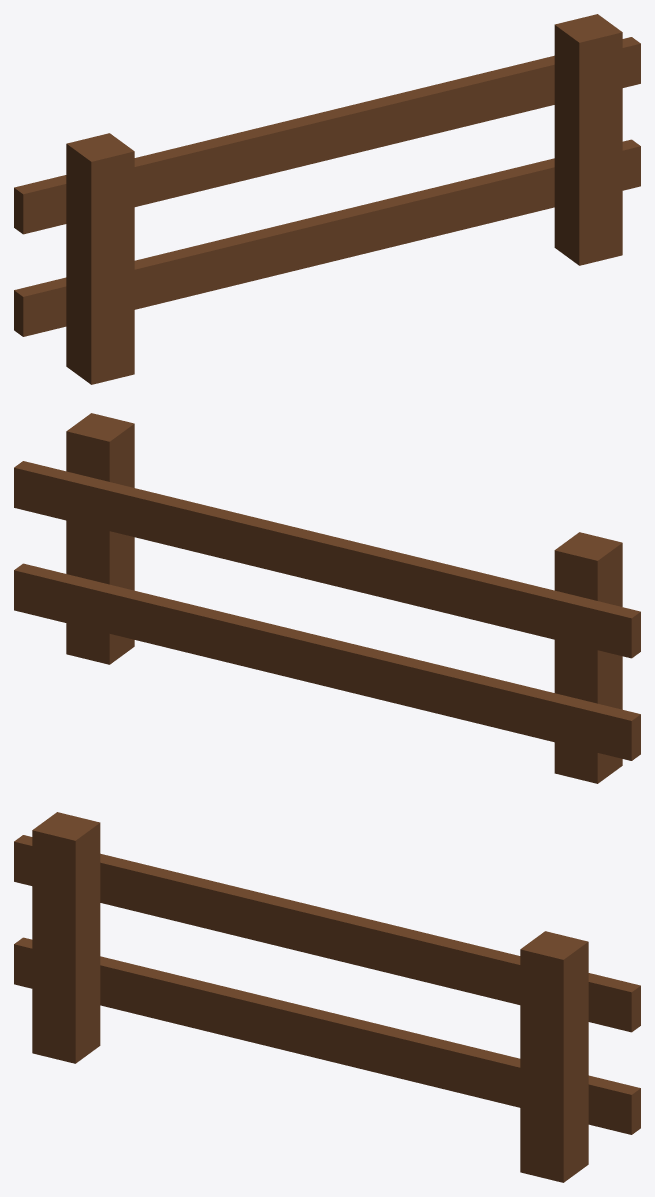
The model's file is fence_planks.glb.
The picture shows the model from 3 angles, top to bottom: view 1: azimuth 30°, elevation 25°; view 2: azimuth 150°, elevation 25°; view 3: azimuth 330°, elevation 25°; orthographic projection.
Parts seen in each view (by area): view 1: fence_planks; view 2: fence_planks; view 3: fence_planks.
Boxes of the visible parts, left/top/right/bottom form: fence_planks: left=14, top=14, right=640, bottom=384; fence_planks: left=14, top=413, right=640, bottom=783; fence_planks: left=14, top=812, right=640, bottom=1182.
Bounding box in the file's own units: 1 × 0.345 × 0.0959.
